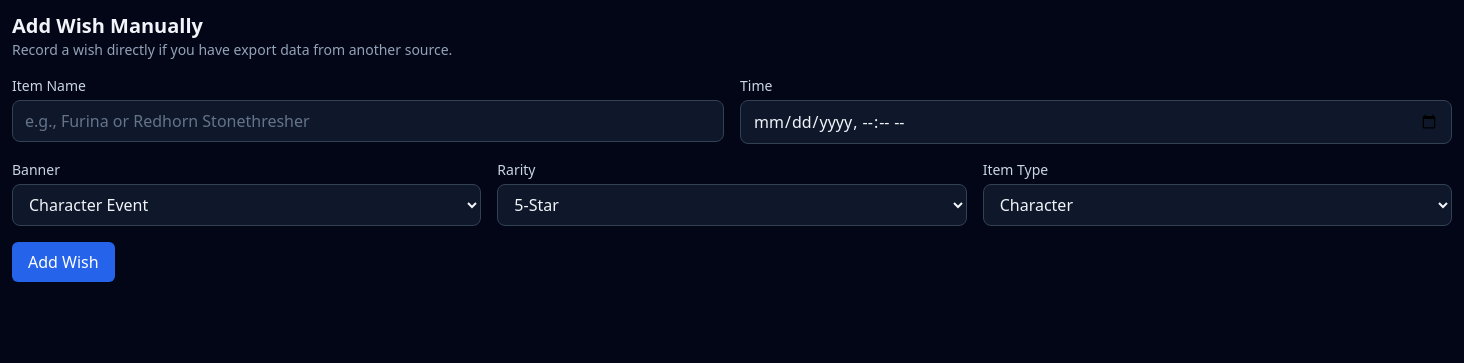
Scenario: WishManualEntry › shows validation errors when required fields are missing
Click the button "Add Wish": point(63, 262) top-left (12, 242), bottom-right (115, 282)
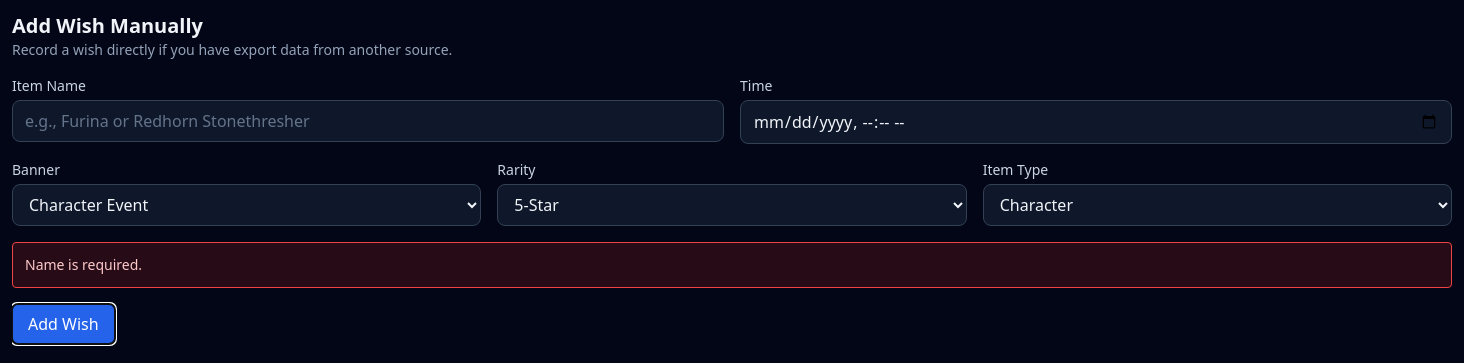
expect the text "Name is required." is shown: met, box top-left (12, 242), bottom-right (1452, 288)
